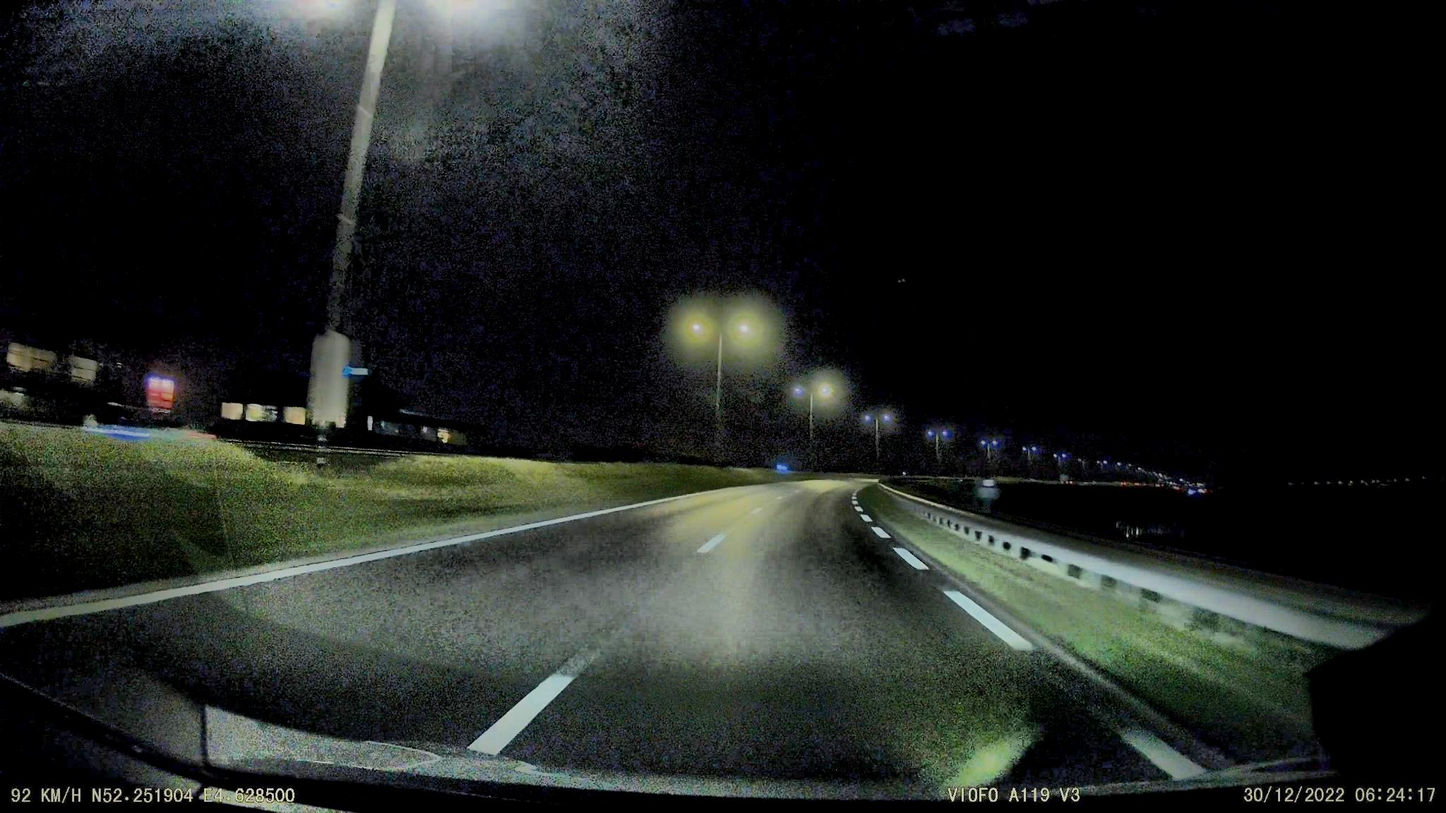Roads: (0, 482, 1121, 784)
